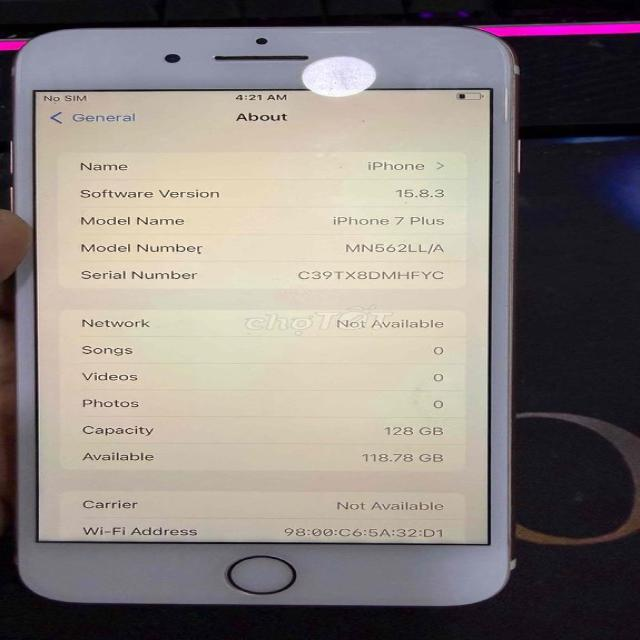gen_7_8: (0, 23, 527, 604)
screen_defect: (293, 48, 383, 104)
